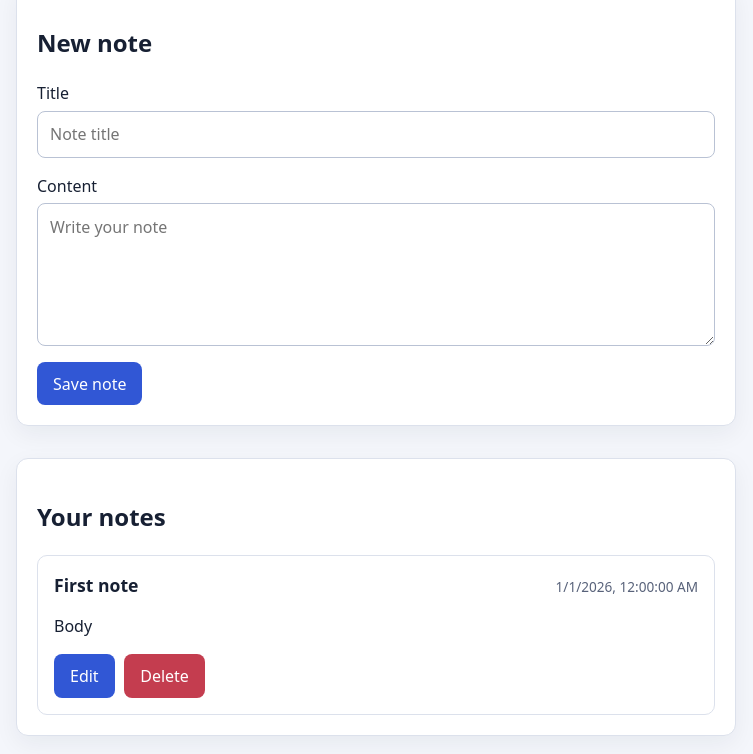
Scenario: notes app › updates a note
This screenshot has width=753, height=754.
(page scrolled)
Click the button "Edit": [84, 676] box x1=54 y1=654 x2=115 y2=698
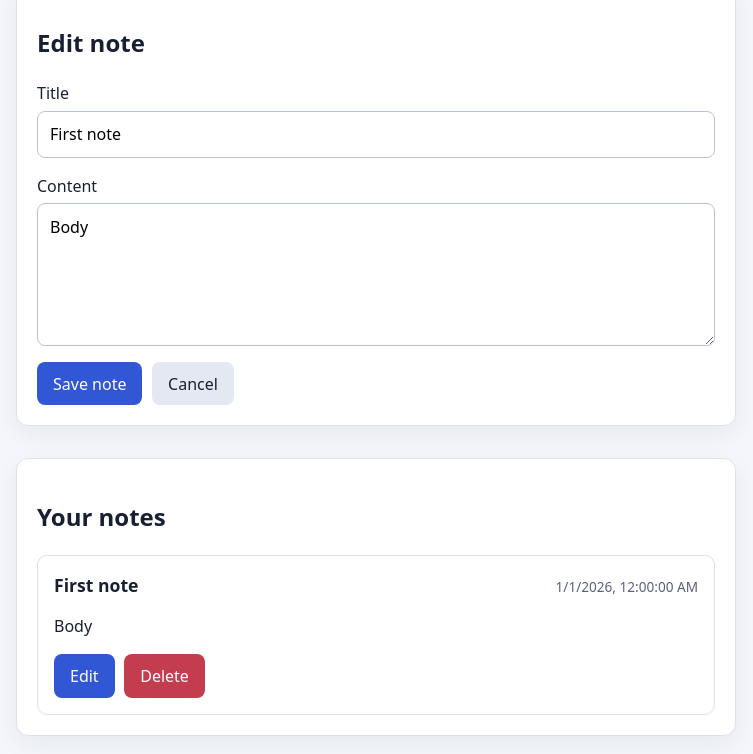
Replace the text in the field labelled "Title" with "Changed": [376, 134] box x1=37 y1=111 x2=715 y2=158
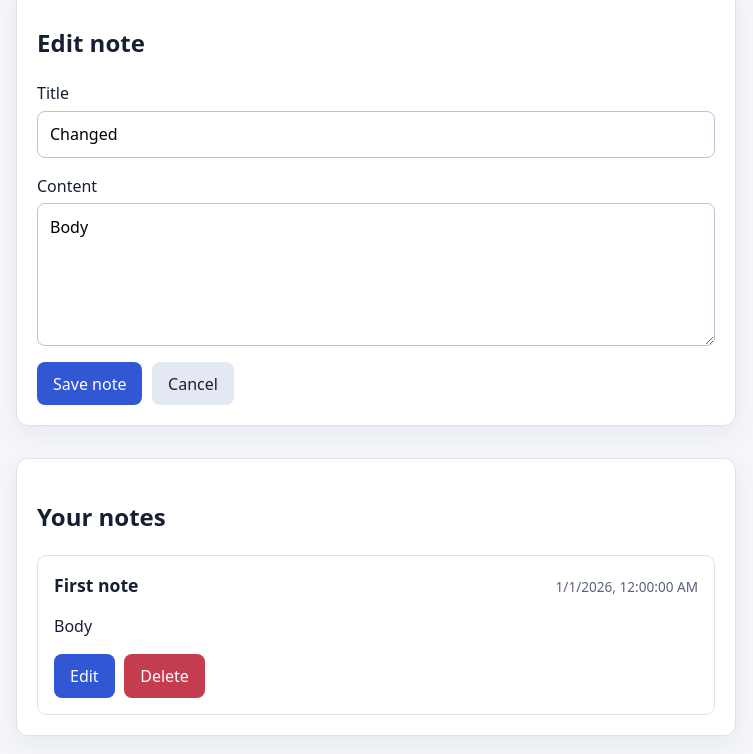
Click the button "Save note": [90, 384] box x1=37 y1=362 x2=142 y2=405
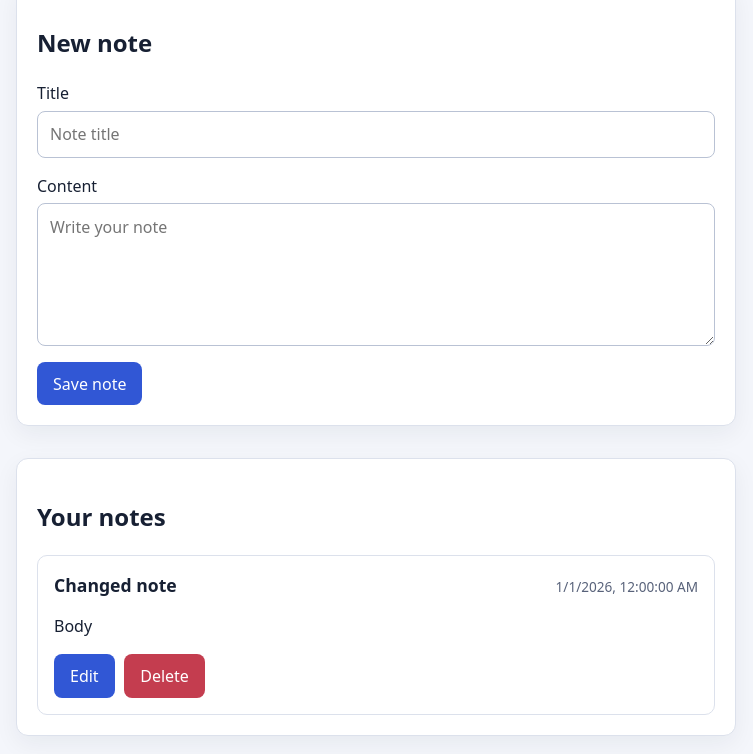
Expected: the heading "Changed note" is shown, x1=54 y1=572 x2=177 y2=598
